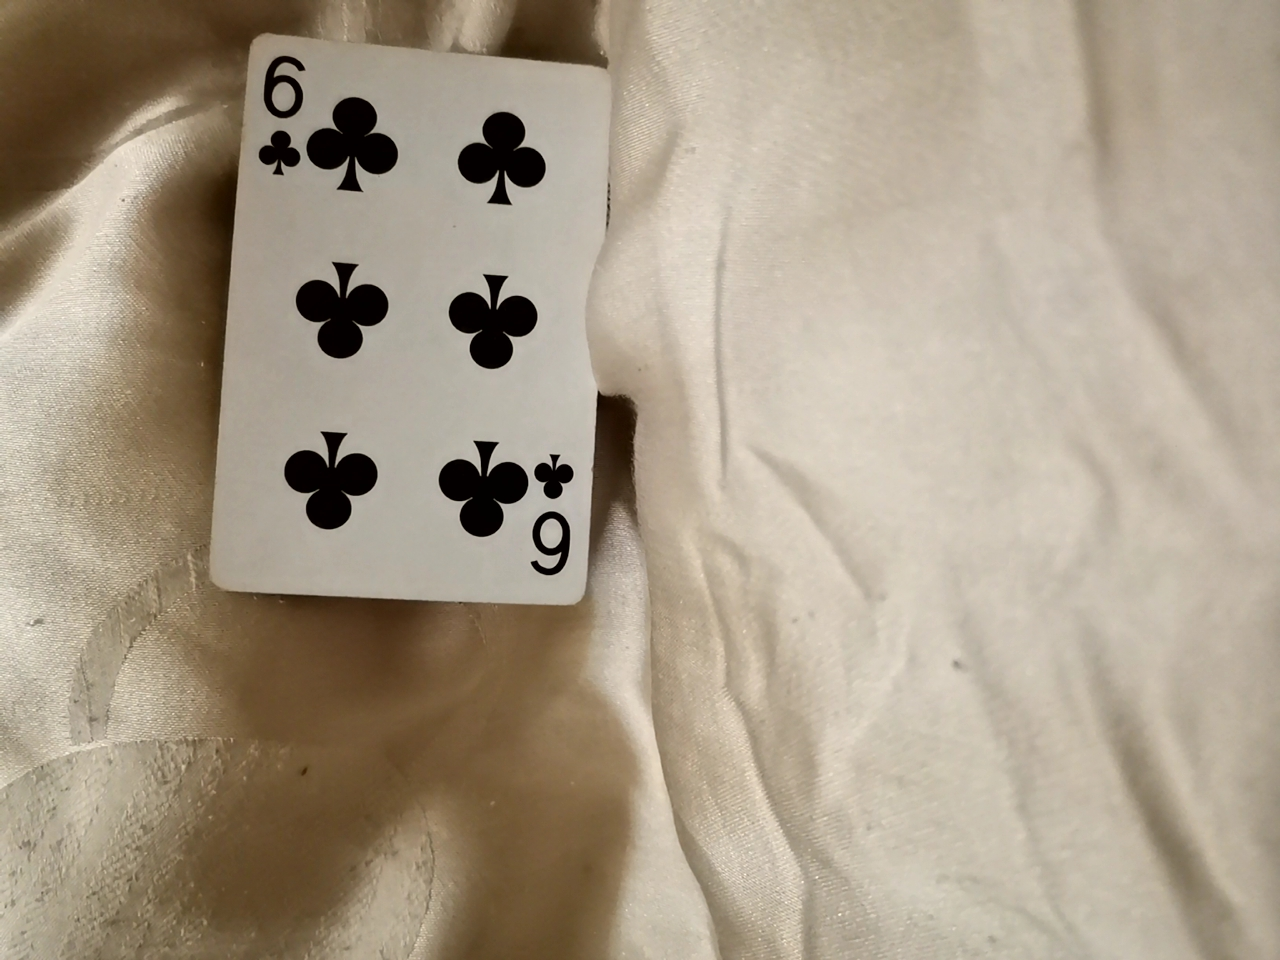mh 6: (199, 50, 617, 627)
